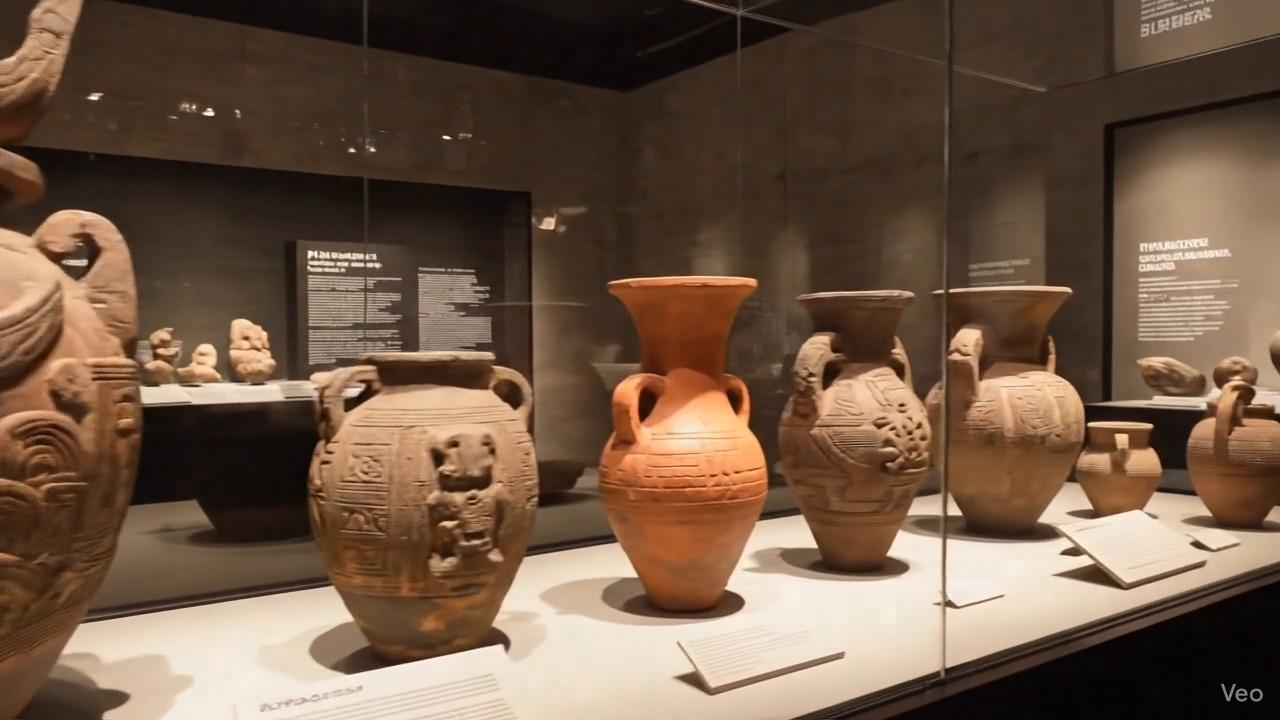manunggul_jar: (0, 0, 163, 720)
